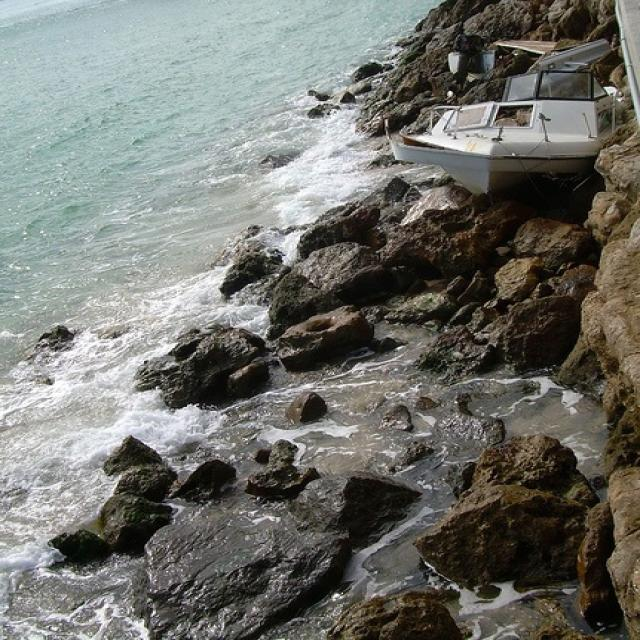boat: (384, 38, 625, 197)
